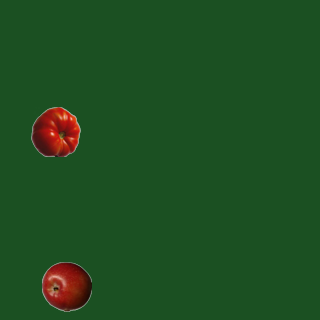Apple Braeburn: (41, 261, 91, 311)
Tomato 3: (30, 106, 80, 156)
